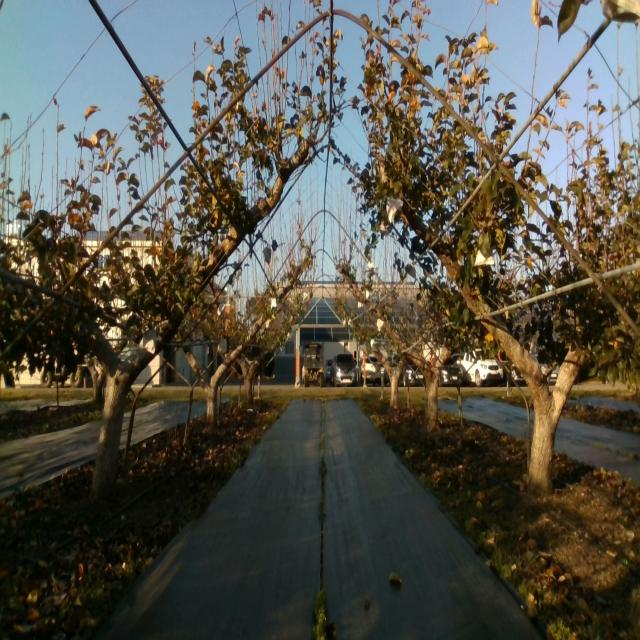pearbags: (386, 194, 404, 223), (473, 246, 495, 268), (138, 328, 156, 354)
